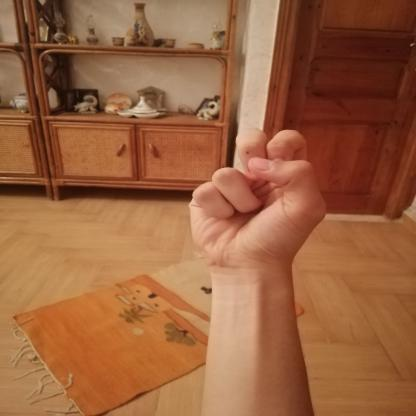QAAF: (173, 118, 342, 288)
